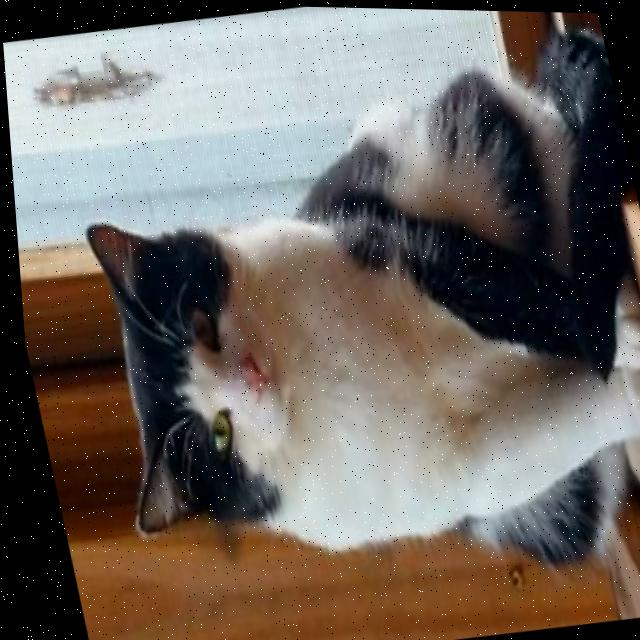Tuxedo: (31, 1, 640, 638)
